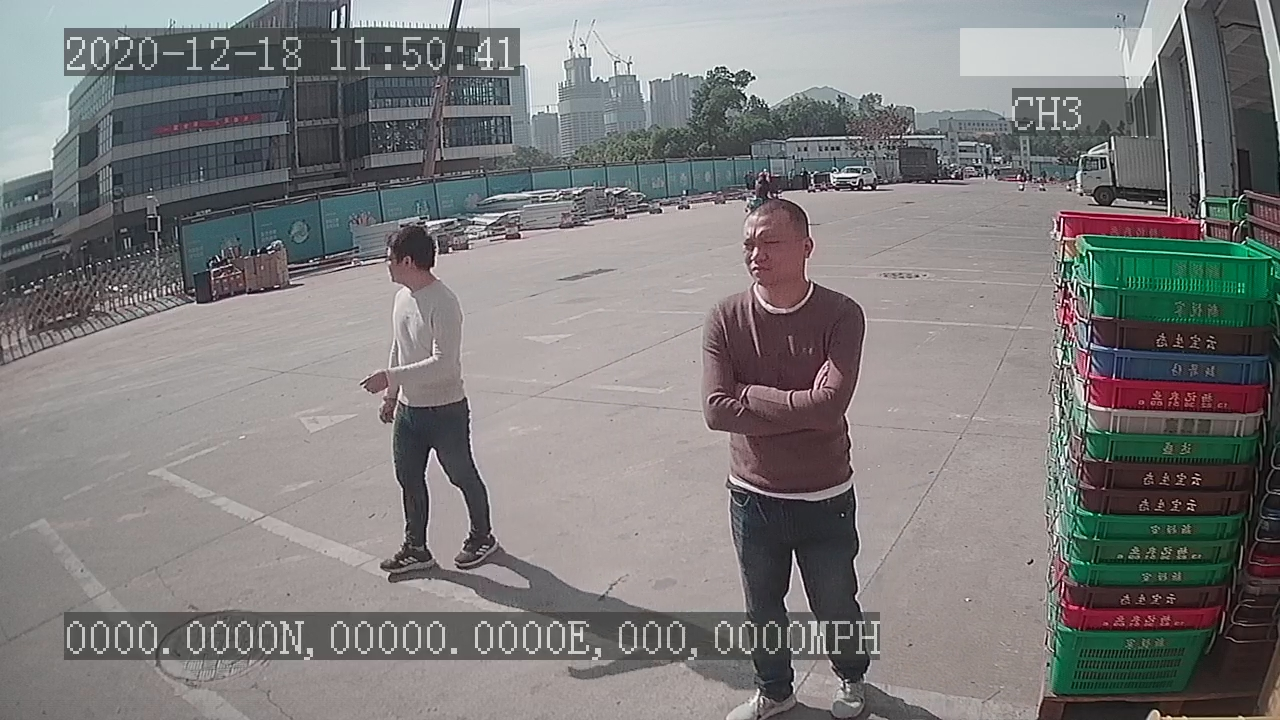person: (351, 219, 506, 581)
